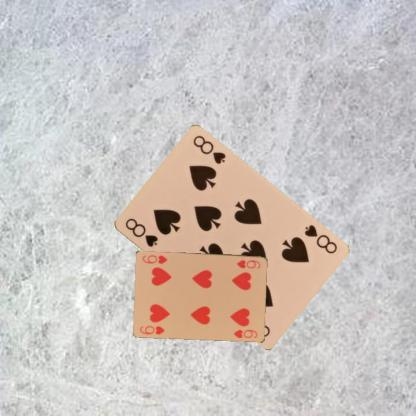6h: (137, 323, 166, 336), (234, 257, 262, 270)
8s: (122, 216, 160, 249), (301, 222, 338, 255)
